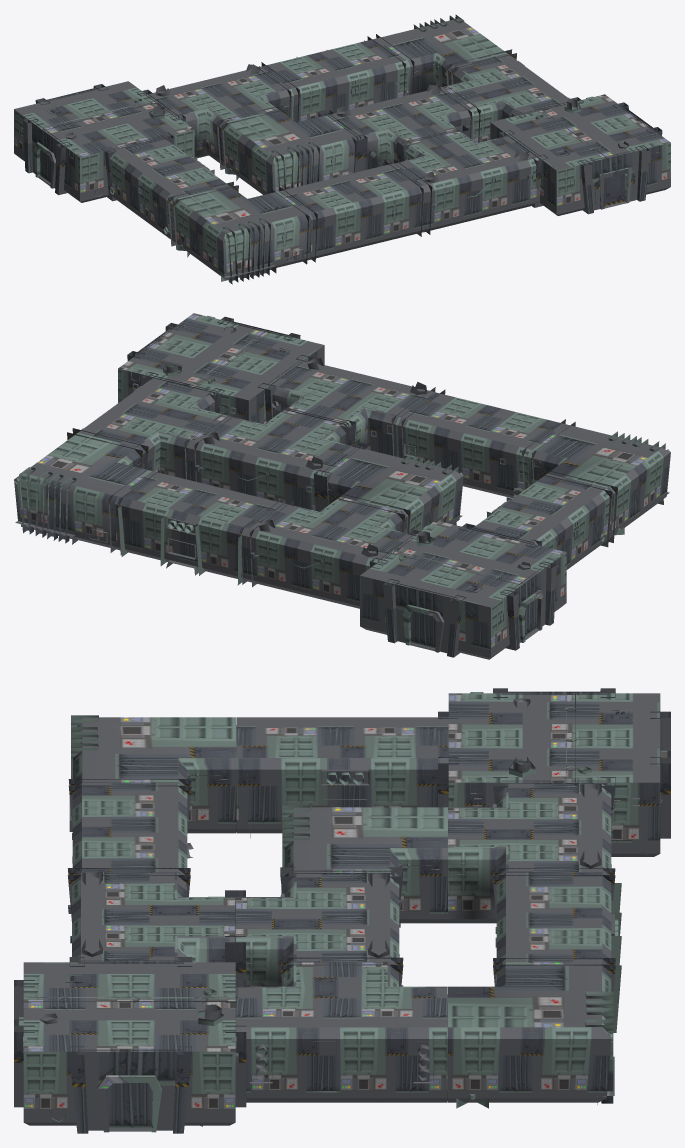
The model's file is Combined_Mesh_root_scene__2_ff295a5e__zombies2_diffuse_06_4771cff4_c1f257.obj.
3 views of the same model, one above another, from view 1: azimuth 30°, elevation 25°; view 2: azimuth 150°, elevation 25°; view 3: azimuth 270°, elevation 25° (orthographic). The views are drawn at different scales.
Bounding box in the file's own units: 81.96 × 9.64 × 62.02.
180 materials, 180 textured.
